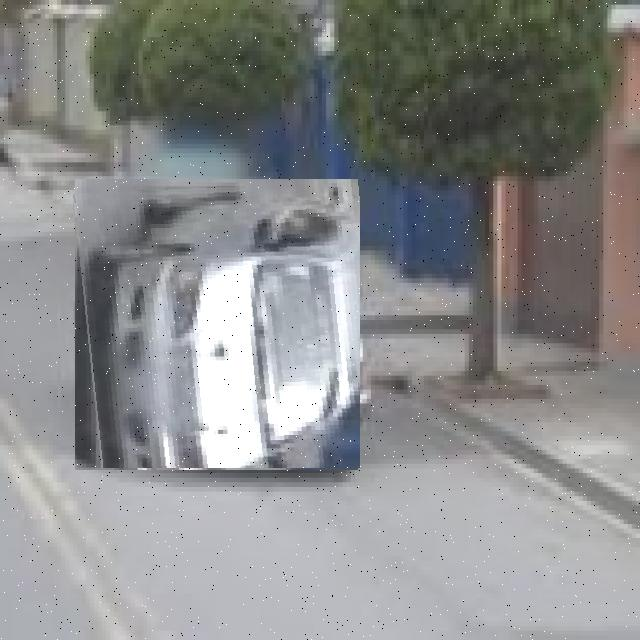car: (74, 182, 361, 469)
